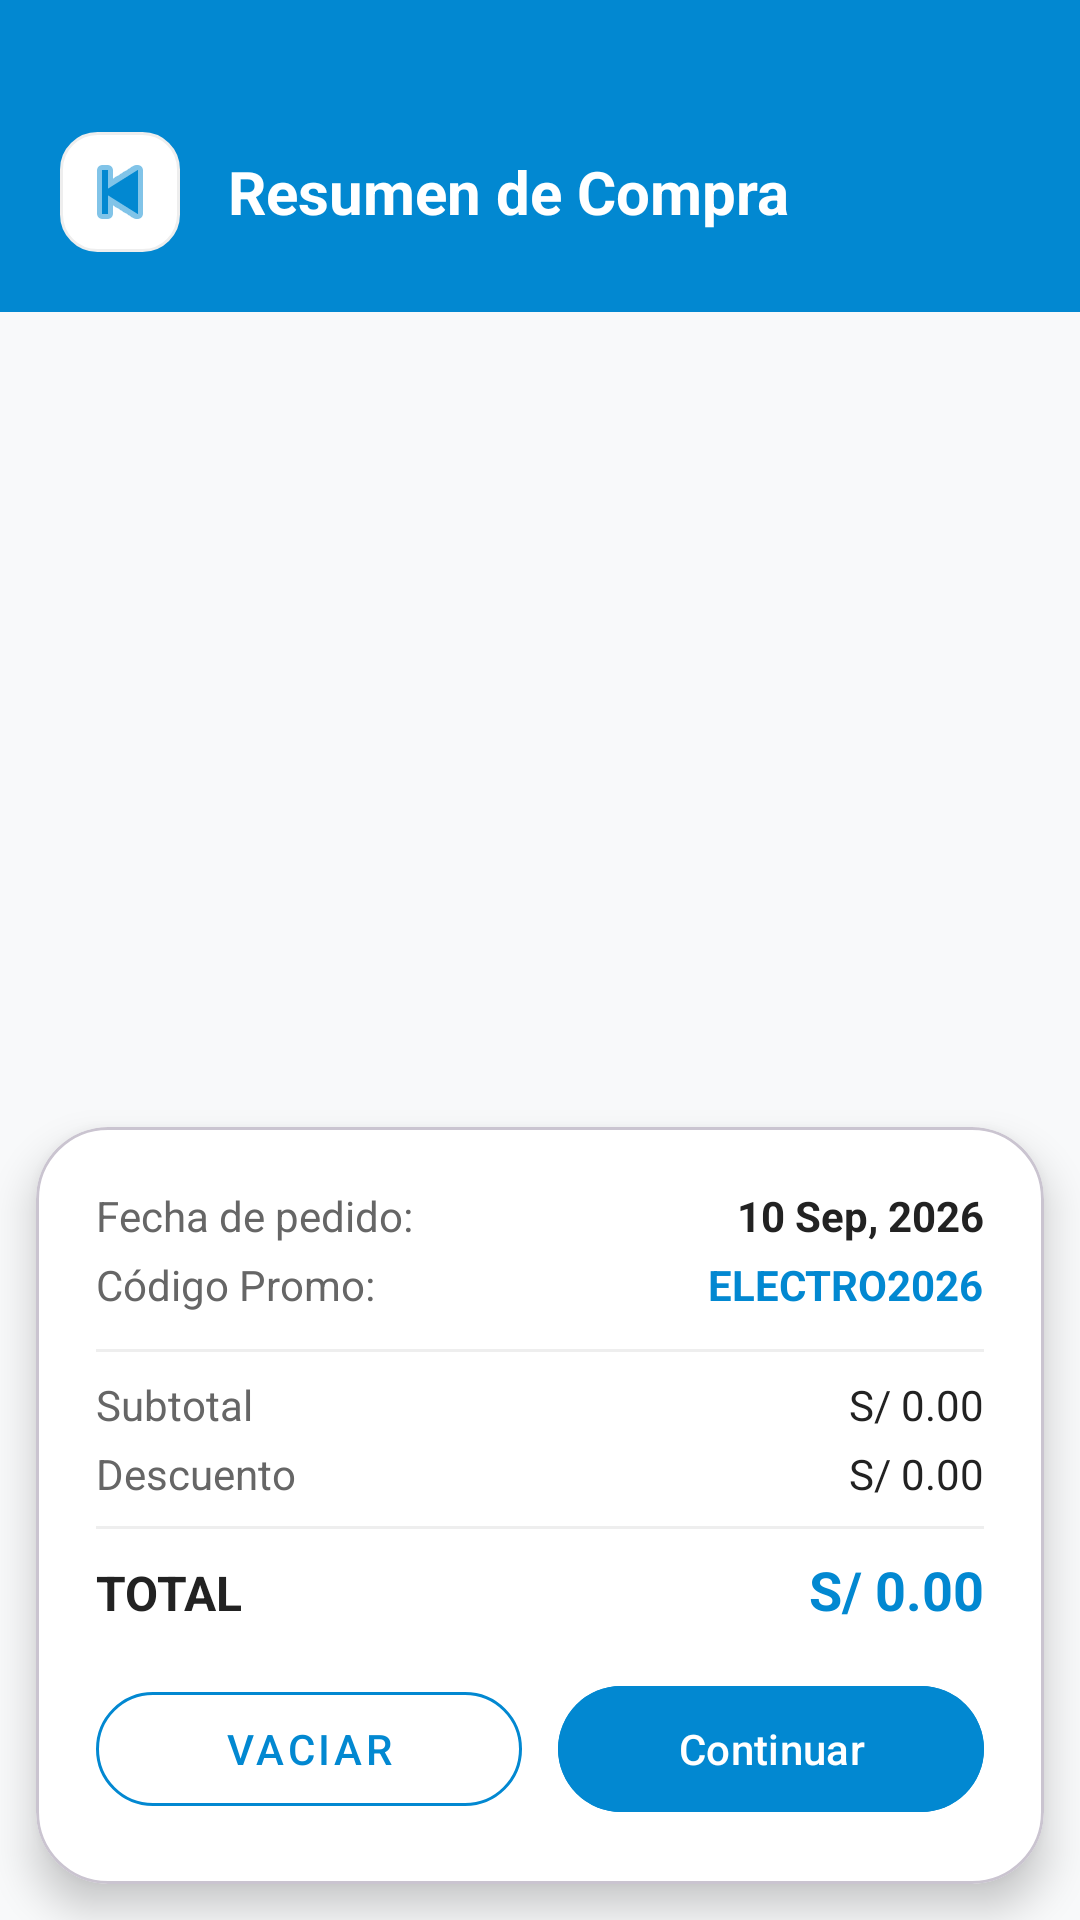

Screen size 1080 × 1920. Icon name, then its center in pixels as (x,y):
Volver: (120,192)
